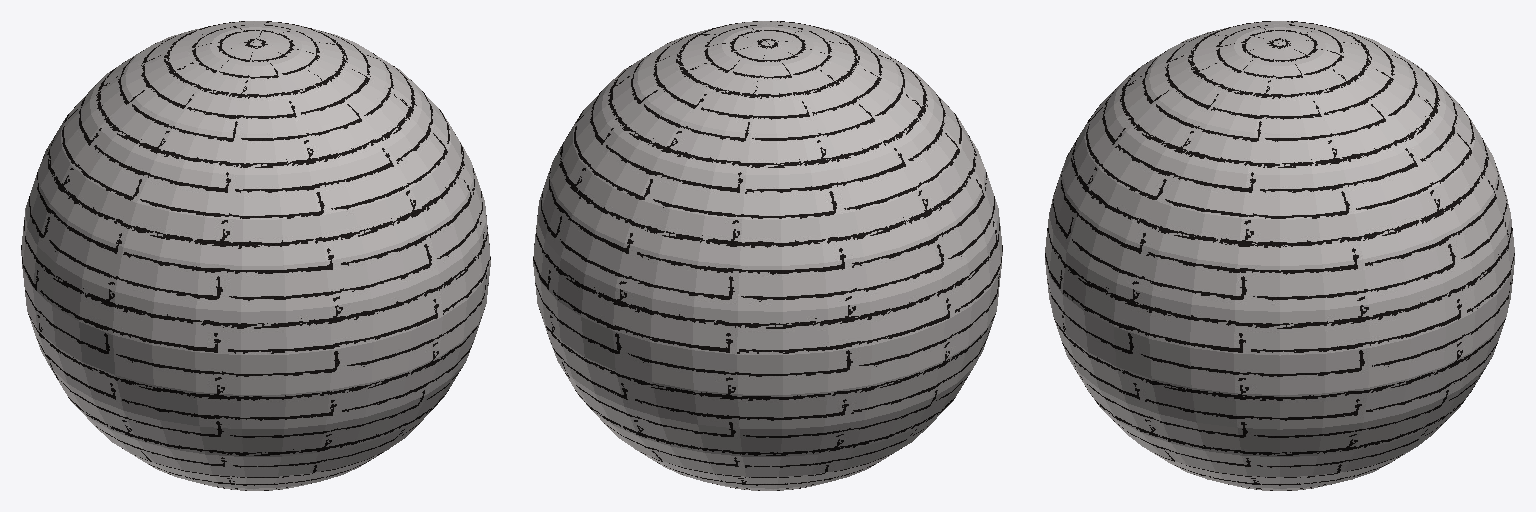
3 renders of one model, left to right at view 1: azimuth 30°, elevation 25°; view 2: azimuth 150°, elevation 25°; view 3: azimuth 270°, elevation 25°, orthographic.
Parts seen in each view (by area): view 1: 球; view 2: 球; view 3: 球.
Part boxes in pixels (bbox=[...]): 球: bbox=[21, 21, 490, 490]; 球: bbox=[533, 21, 1002, 490]; 球: bbox=[1045, 21, 1514, 490].
Bounding box in the file's own units: 2 × 2 × 2.
Materials: 1 (1 with a texture image).